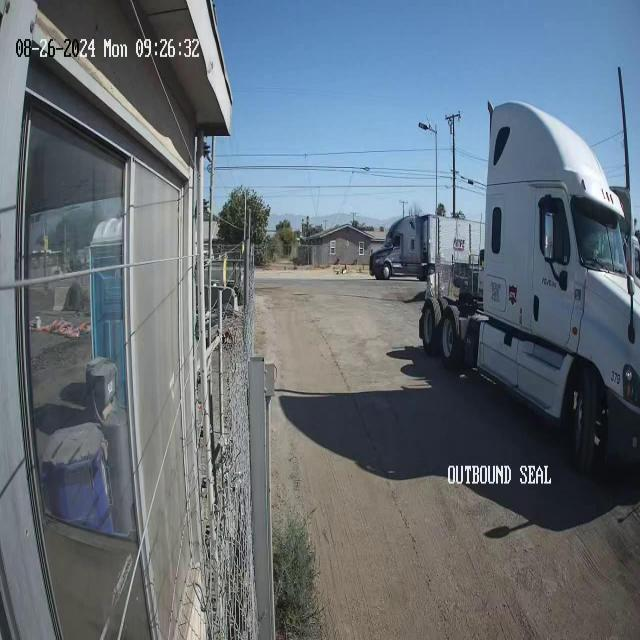TRUCK_IN: (419, 97, 639, 477)
